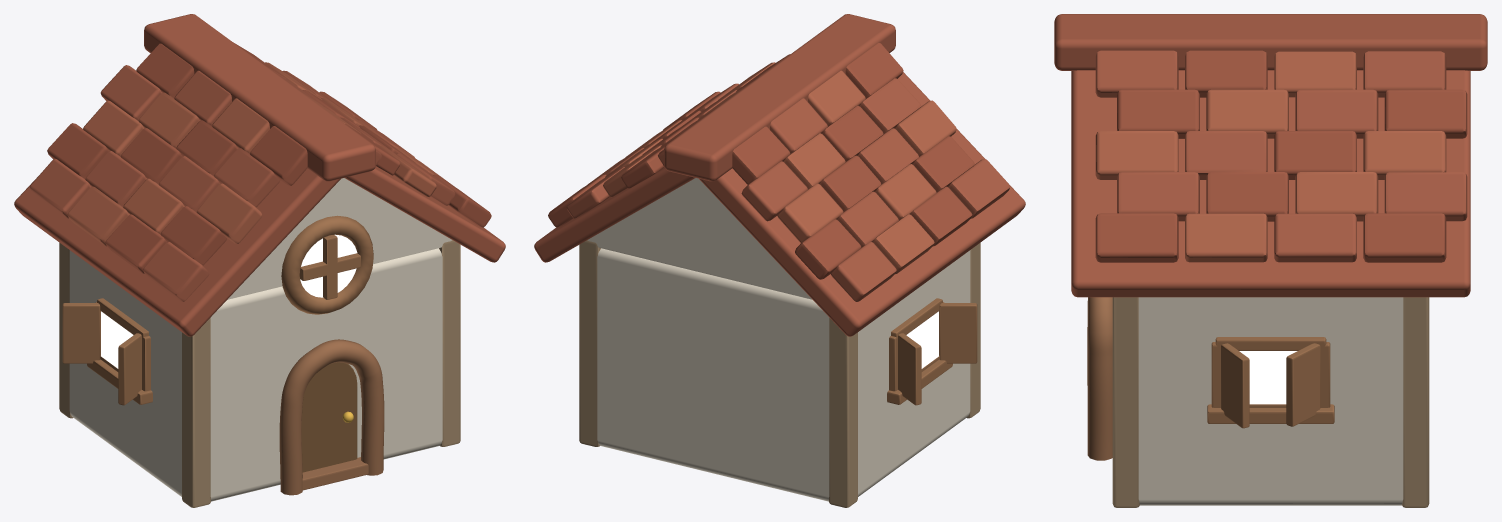
Rendered from cottage.glb.
3 views of the same model, side by side, from view 1: azimuth 30°, elevation 25°; view 2: azimuth 150°, elevation 25°; view 3: azimuth 270°, elevation 25° (orthographic). The views are drawn at different scales.
Visible parts, largest first — view 1: cottage; view 2: cottage; view 3: cottage.
Boxes of the visible parts, x1,y1,x2,y2 form: cottage: (14, 14, 505, 507); cottage: (534, 14, 1025, 507); cottage: (1054, 14, 1487, 507).
Size of the model in its own units: 0.92 by 0.8931 by 0.8652.
